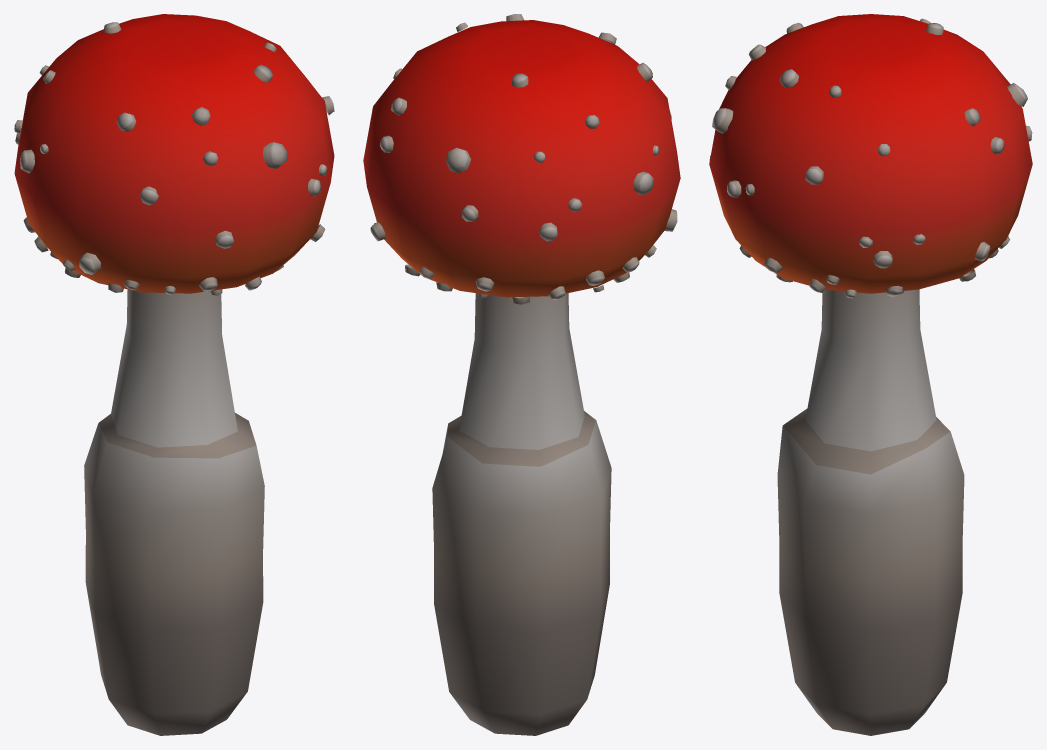
Rendered from plants-mushrooms-toadstool_v3.glb.
3 renders of one model, left to right at view 1: azimuth 30°, elevation 25°; view 2: azimuth 150°, elevation 25°; view 3: azimuth 270°, elevation 25°, orthographic.
Visible parts, largest first — view 1: Toadstool_v3; view 2: Toadstool_v3; view 3: Toadstool_v3.
Part boxes in pixels (x1=…): Toadstool_v3: x1=14, y1=14, x2=334, y2=735; Toadstool_v3: x1=363, y1=14, x2=680, y2=735; Toadstool_v3: x1=709, y1=14, x2=1032, y2=735.
Size of the model in its own units: 0.0857 by 0.2 by 0.0852.
